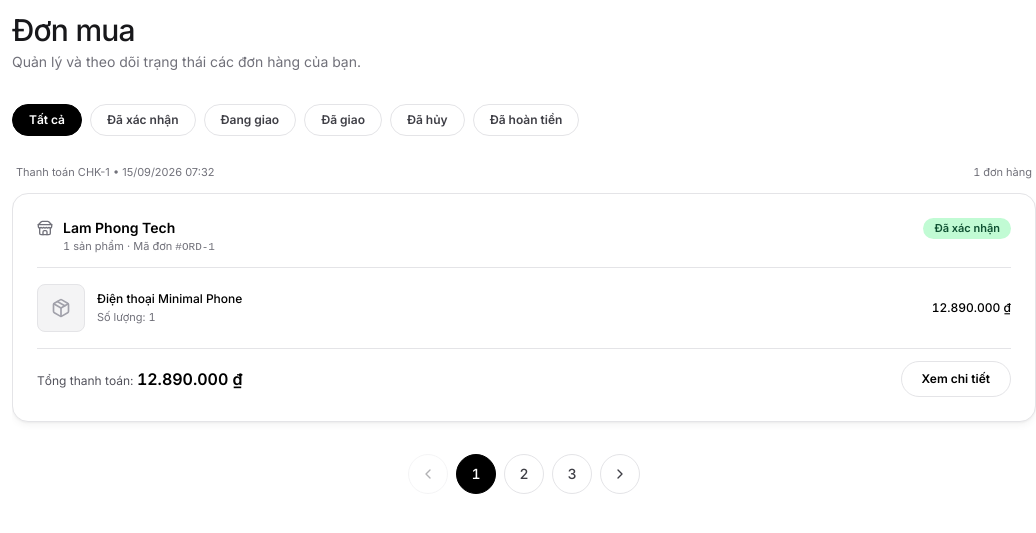
OrderHistoryPage › paginates through the URL
Click the button named "Trang 2" at (524, 474), box [504, 454, 544, 494]
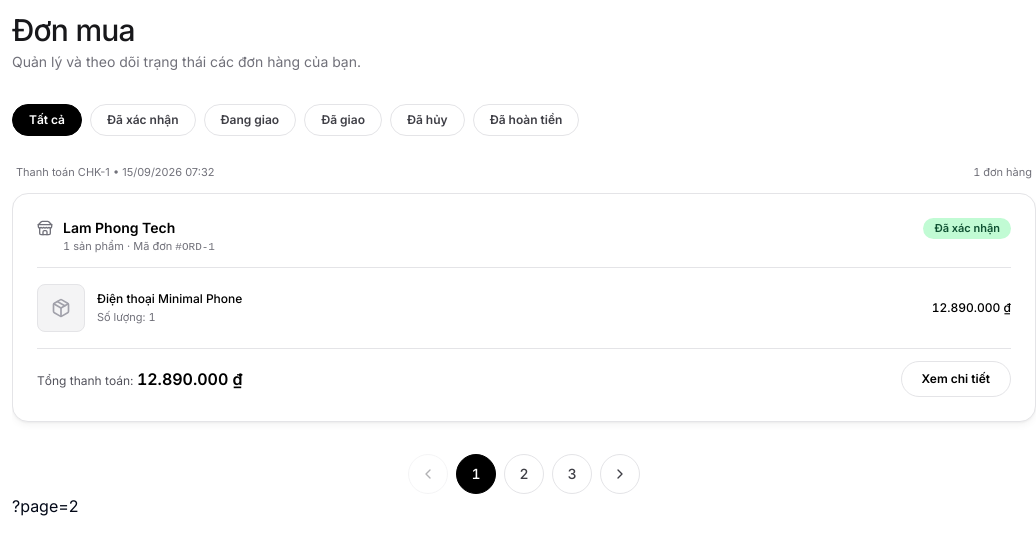
Now the text with test id "where" reads "?page=2", box [12, 496, 79, 516]
